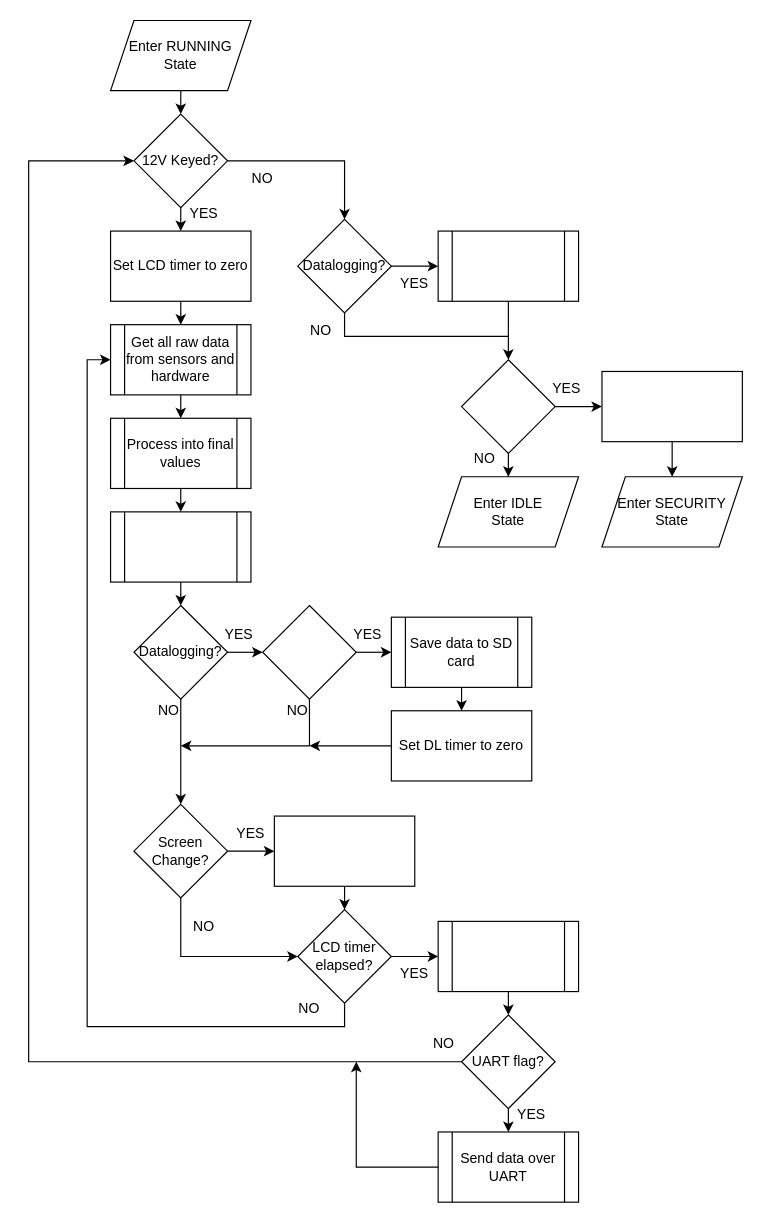
Image size: 763x1223. Some labels were removed from this diagram. The shapes that lost their labels are listed below. From the top down, each one's centre as x and y in pixels, then its label:
At [508,265]: "Stop and close file".
At [507,406]: "Security?".
At [671,406]: "Activate fuel pump interlock".
At [180,546]: "Update LEDs based on state of modules".
At [308,651]: "DL timer Elapsed?".
At [344,850]: "Set screen page number".
At [508,956]: "Display selected data screen".
